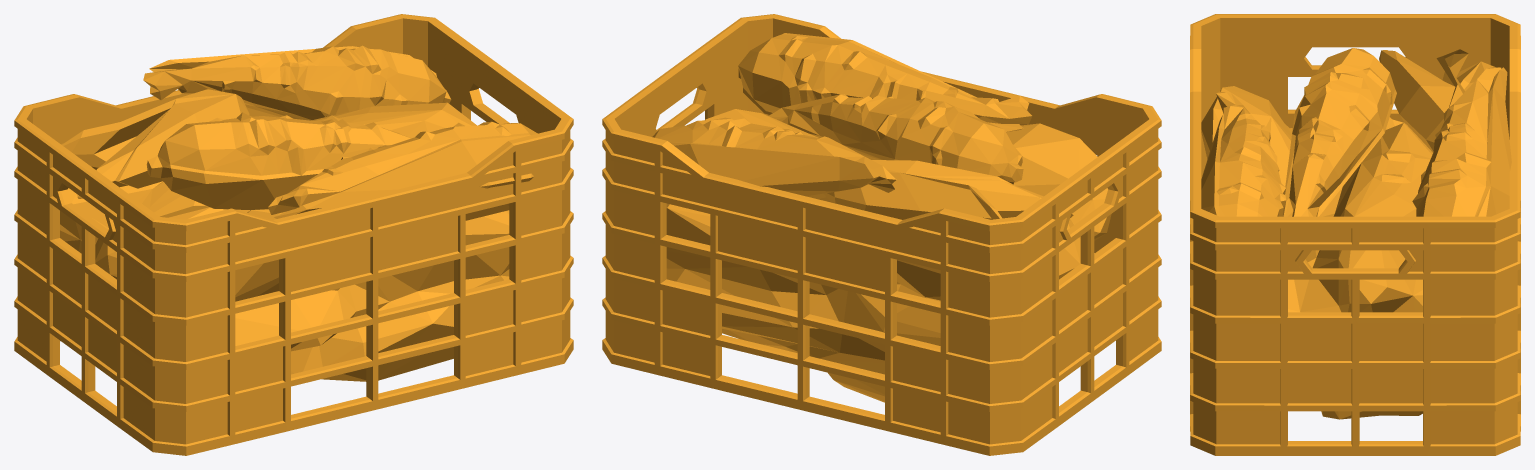
The model's file is SM_Crate_Plastic_Big_Corn_B.fbx.
3 views of the same model, side by side, from view 1: azimuth 30°, elevation 25°; view 2: azimuth 150°, elevation 25°; view 3: azimuth 270°, elevation 25° (orthographic).
Parts seen in each view (by area): view 1: crate-plastic-big-corn-b; view 2: crate-plastic-big-corn-b; view 3: crate-plastic-big-corn-b.
Part boxes in pixels (x1=…): crate-plastic-big-corn-b: x1=14, y1=14, x2=573, y2=455; crate-plastic-big-corn-b: x1=602, y1=14, x2=1161, y2=455; crate-plastic-big-corn-b: x1=1190, y1=14, x2=1520, y2=455.
Bounding box in the file's own units: 0.6083 × 0.3484 × 0.4083.
